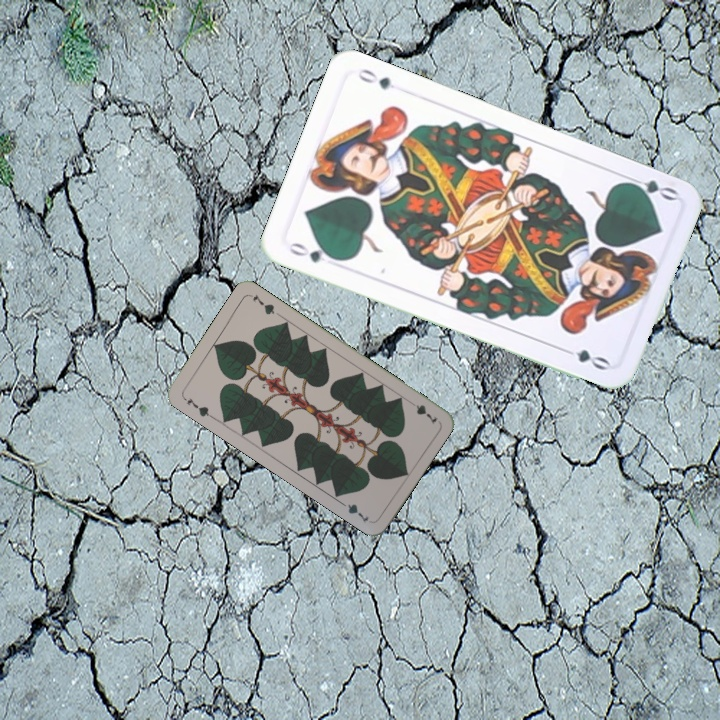G7: (404, 396, 440, 427), (179, 393, 216, 421)
GO: (620, 171, 680, 204), (285, 238, 342, 266)
